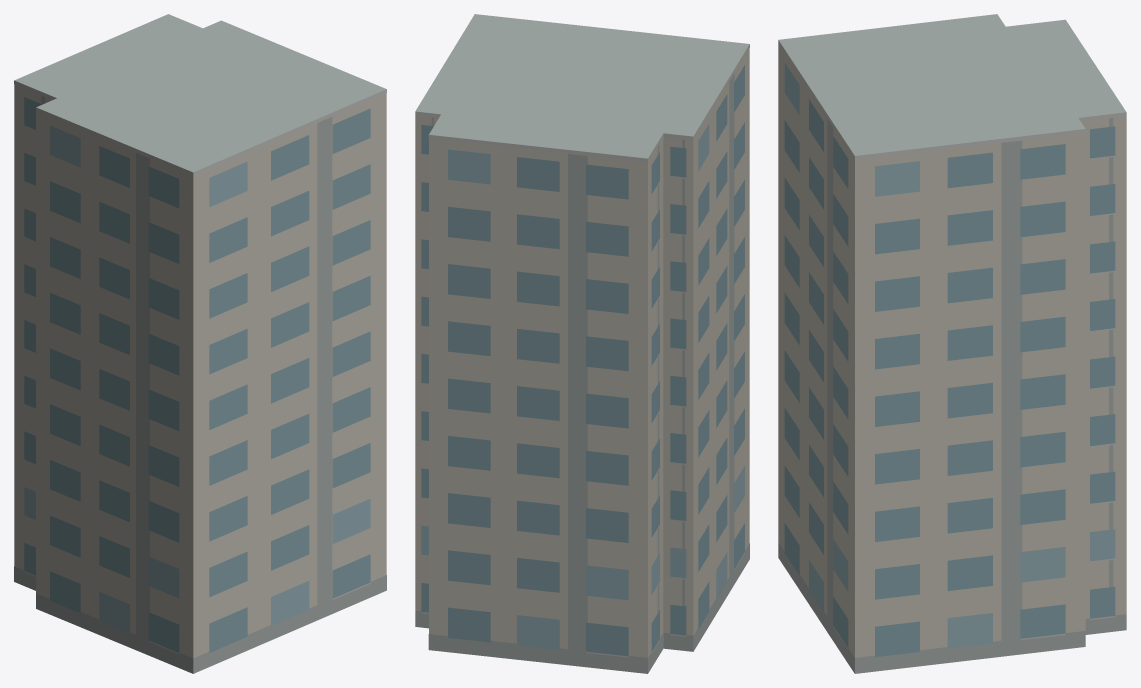
File: residential-04d1776f-3f22-4025-bce5-fe478dbb47dd.glb
The picture shows the model from 3 angles, left to right: view 1: azimuth 30°, elevation 25°; view 2: azimuth 150°, elevation 25°; view 3: azimuth 270°, elevation 25°; orthographic projection. The views are drawn at different scales.
Visible parts, largest first — view 1: residential-04d1776f-3f22-4025-bce5-fe478dbb47dd.tmp; view 2: residential-04d1776f-3f22-4025-bce5-fe478dbb47dd.tmp; view 3: residential-04d1776f-3f22-4025-bce5-fe478dbb47dd.tmp.
Boxes of the visible parts, box(x1,y1,x2,y2) form: residential-04d1776f-3f22-4025-bce5-fe478dbb47dd.tmp: box(14, 14, 386, 673); residential-04d1776f-3f22-4025-bce5-fe478dbb47dd.tmp: box(415, 14, 749, 673); residential-04d1776f-3f22-4025-bce5-fe478dbb47dd.tmp: box(778, 14, 1126, 673).
Size of the model in its own units: 18.23 by 31 by 18.9.
